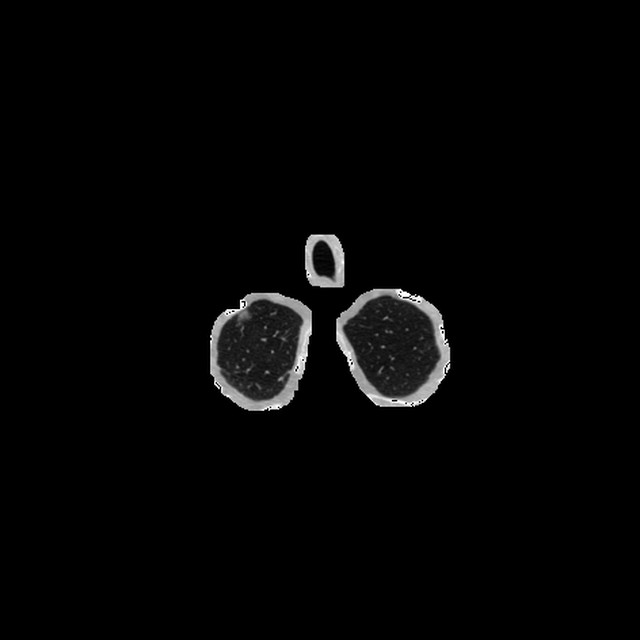PN: (237, 312, 248, 323)
